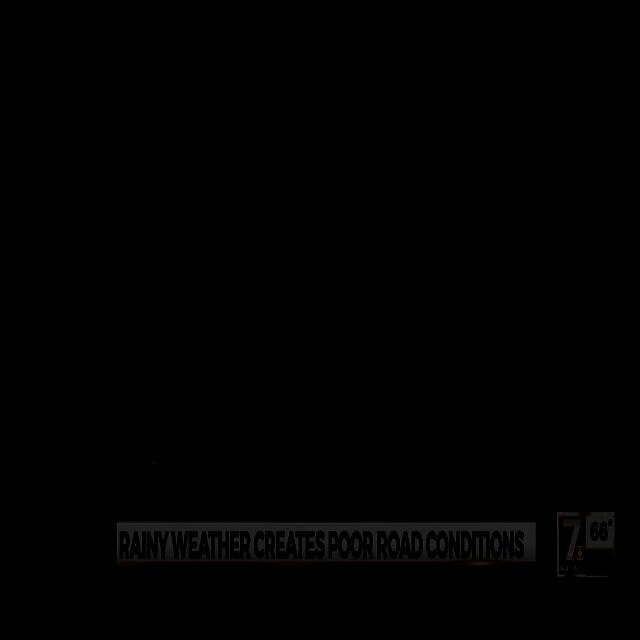Pothole: (103, 371, 560, 522)
